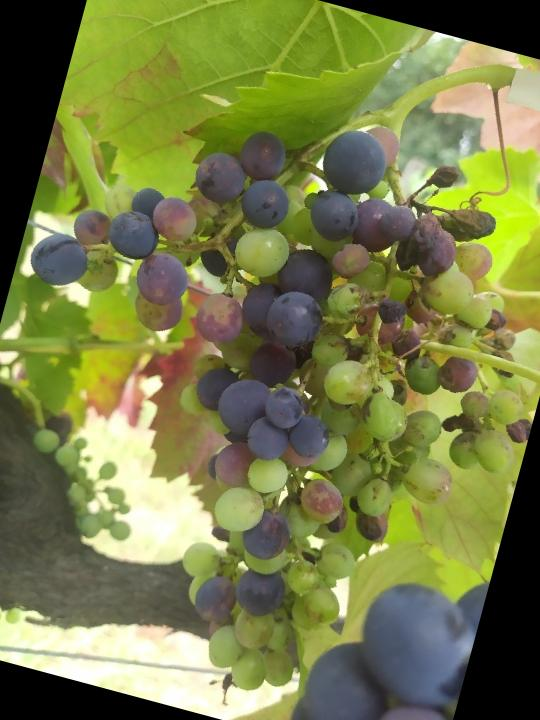grape: (0, 42, 540, 720)
